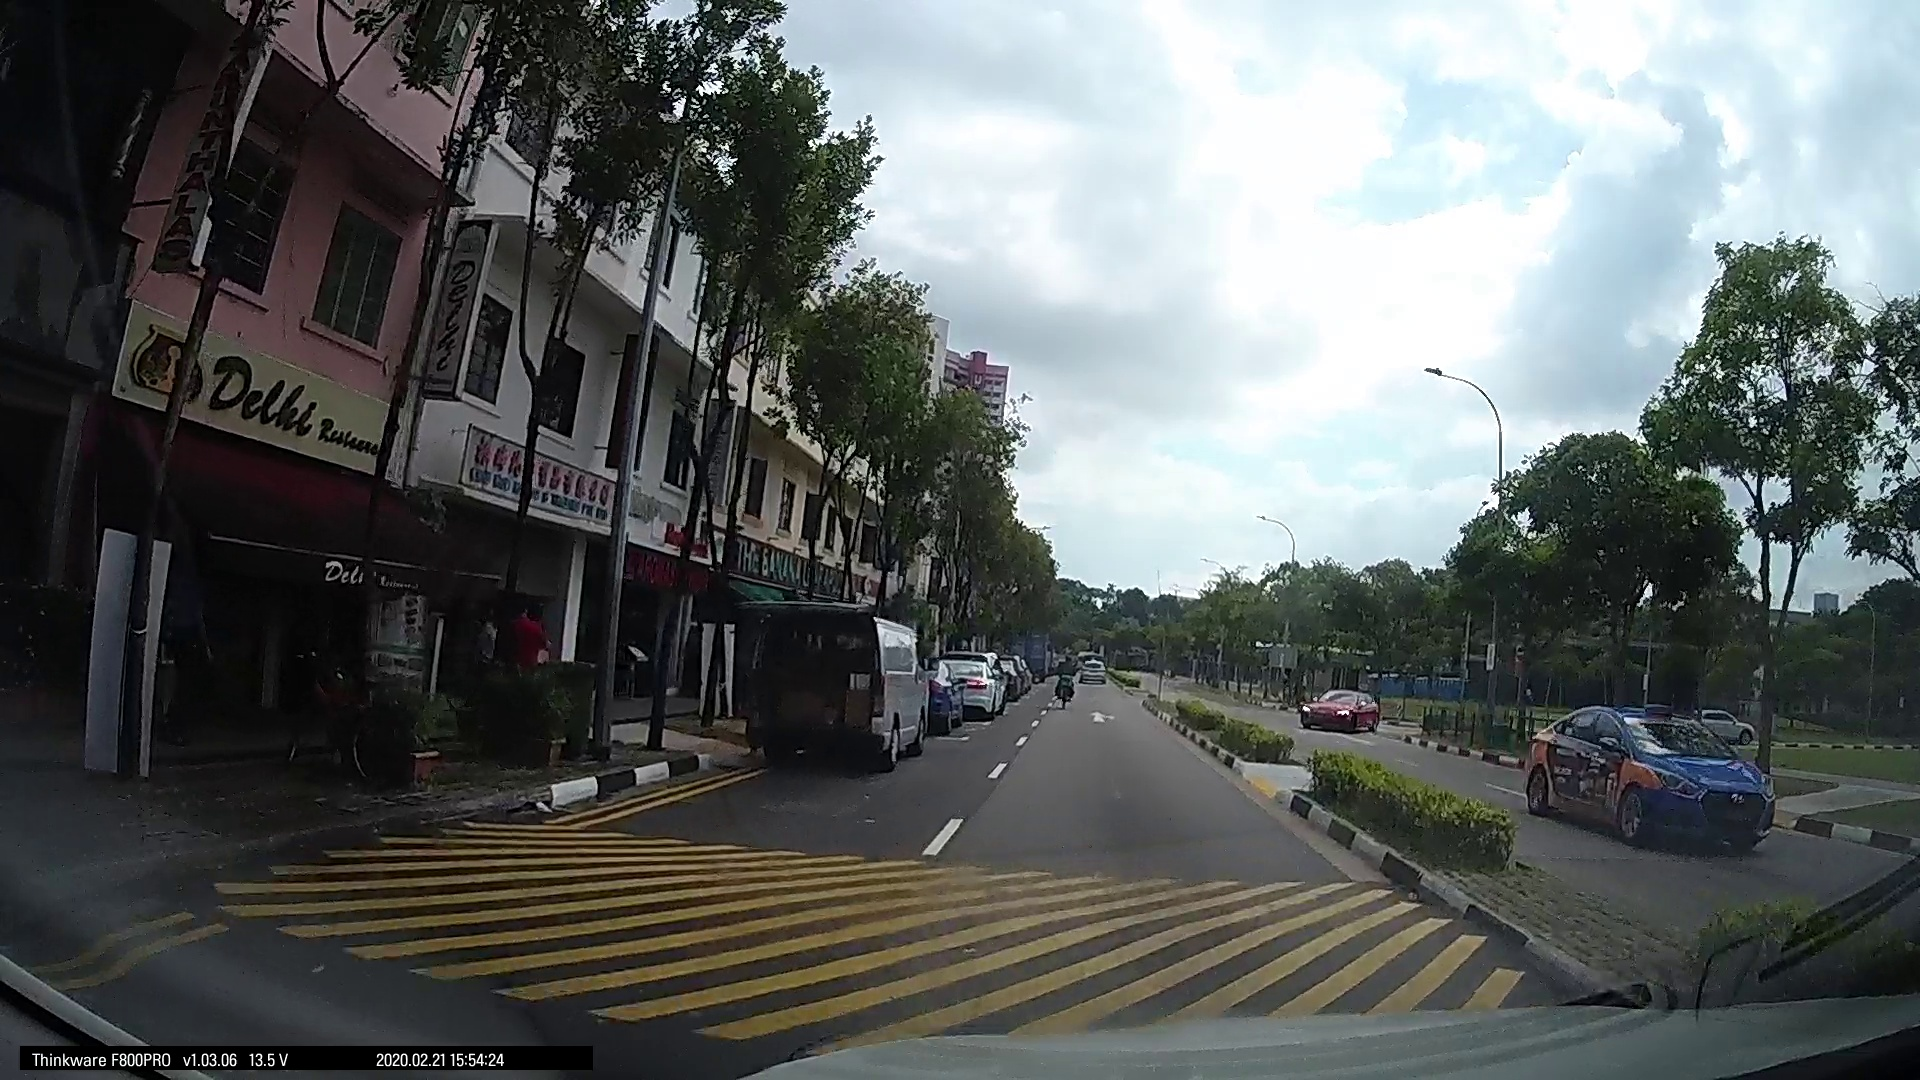Light Vehicle: (1524, 700, 1782, 852), (741, 601, 928, 771), (1295, 678, 1386, 738), (928, 650, 1005, 719), (1069, 655, 1110, 688)
